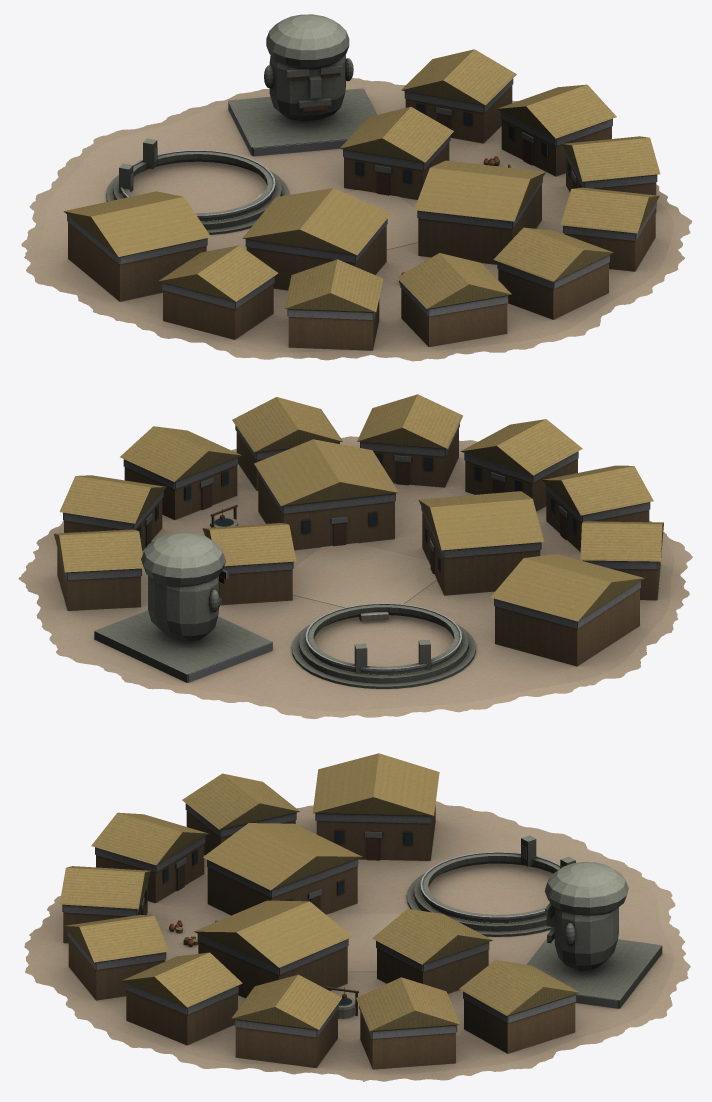
File: bronze-town-medium-b-americas.glb
The picture shows the model from 3 angles, top to bottom: view 1: azimuth 30°, elevation 25°; view 2: azimuth 150°, elevation 25°; view 3: azimuth 270°, elevation 25°; orthographic projection.
Visible parts, largest first — view 1: LOD0; view 2: LOD0; view 3: LOD0.
Part boxes in pixels (x1,y1,x2,y2): LOD0: (21, 14, 692, 361); LOD0: (18, 394, 692, 719); LOD0: (24, 753, 690, 1081).
Size of what is drawn, in the model's own units: 6 by 1.05 by 5.99.
3 materials, 3 textured.
